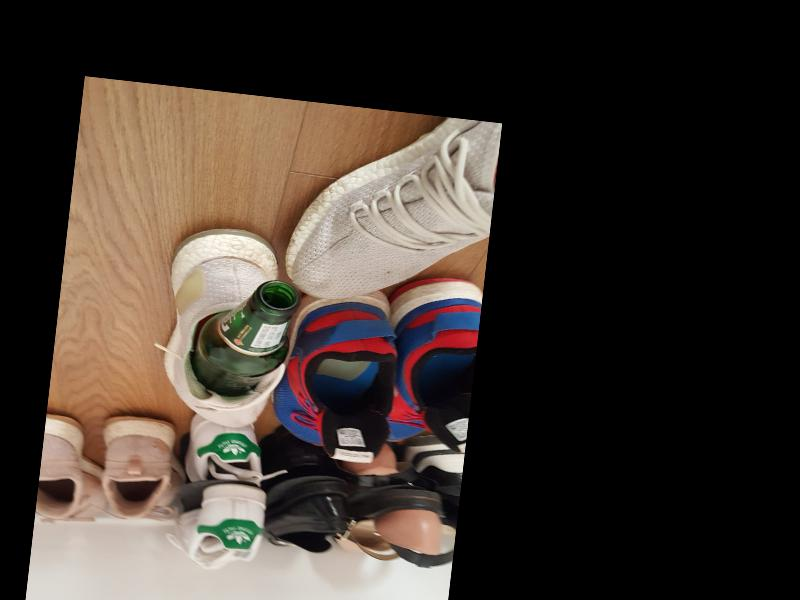Beer: (189, 272, 299, 401)
